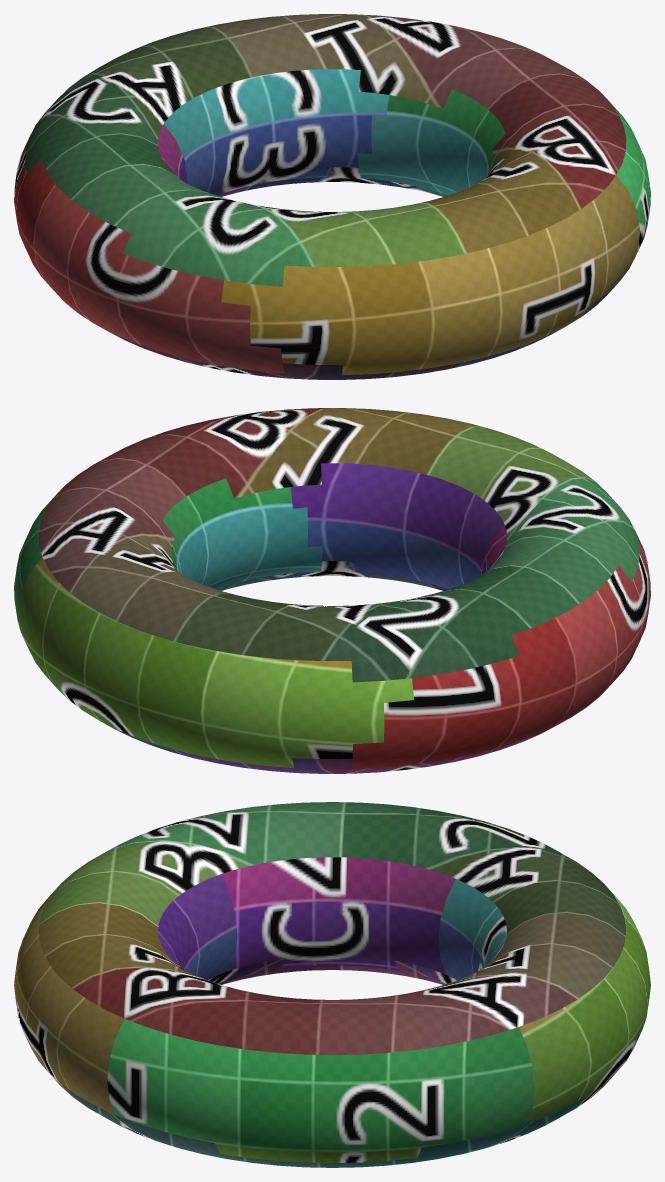
File: Prim_Torus.glb
3 renders of one model, top to bottom at view 1: azimuth 30°, elevation 25°; view 2: azimuth 150°, elevation 25°; view 3: azimuth 270°, elevation 25°, orthographic.
Visible parts, largest first — view 1: Prim_Torus; view 2: Prim_Torus; view 3: Prim_Torus.
Part boxes in pixels (<box>): Prim_Torus: <box>14,14,650,379</box>; Prim_Torus: <box>14,408,650,773</box>; Prim_Torus: <box>14,802,650,1167</box>.
Size of the model in its own units: 1.36 by 0.36 by 1.36.
1 material, 1 textured.
